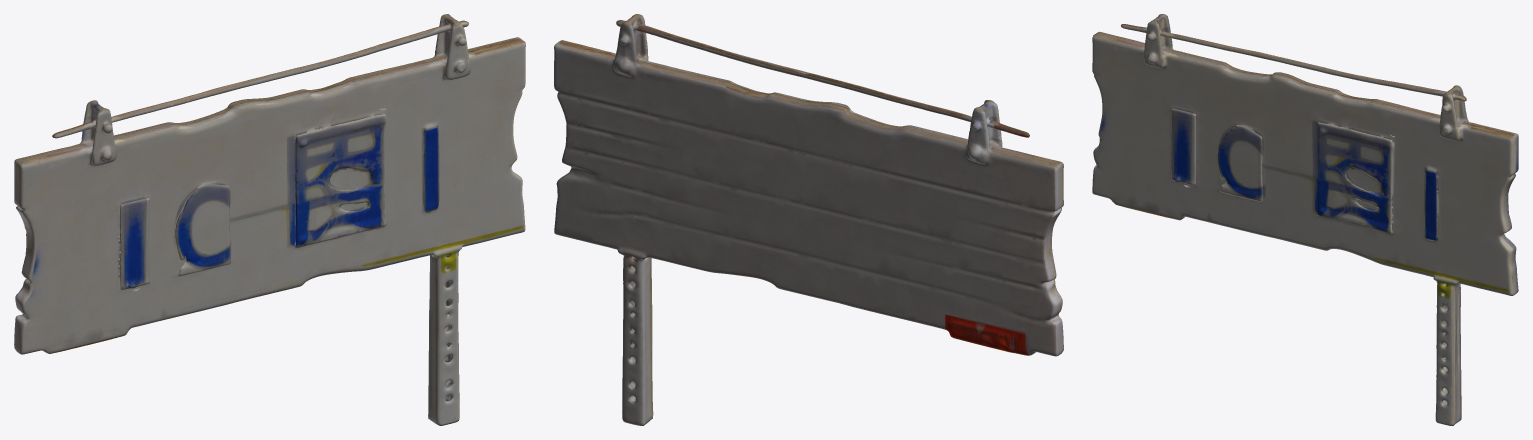
Rendered from Signboard.fbx.
The picture shows the model from 3 angles, left to right: view 1: azimuth 30°, elevation 25°; view 2: azimuth 150°, elevation 25°; view 3: azimuth 330°, elevation 25°; orthographic projection. The views are drawn at different scales.
Parts seen in each view (by area): view 1: file1; view 2: file1; view 3: file1.
Part boxes in pixels (x1,y1,x2,y2): file1: (14, 14, 525, 425); file1: (554, 14, 1063, 425); file1: (1092, 14, 1518, 425).
Size of the model in its own units: 200 by 152 by 15.92.
Materials: 1 (1 with a texture image).
